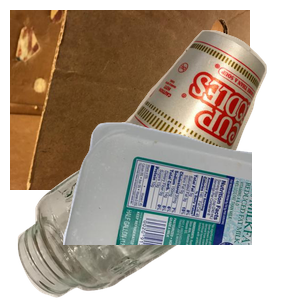cardboard: (10, 10, 250, 190)
glass: (15, 126, 229, 300)
plastic: (60, 120, 300, 300)
trash: (119, 28, 300, 207)
